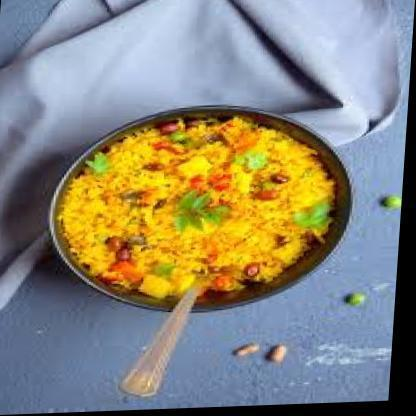poha: (55, 114, 341, 302)
